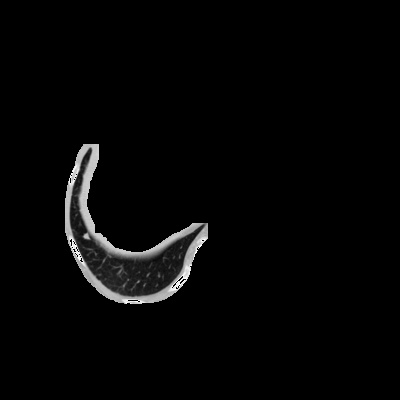PN: (82, 232, 90, 240)
